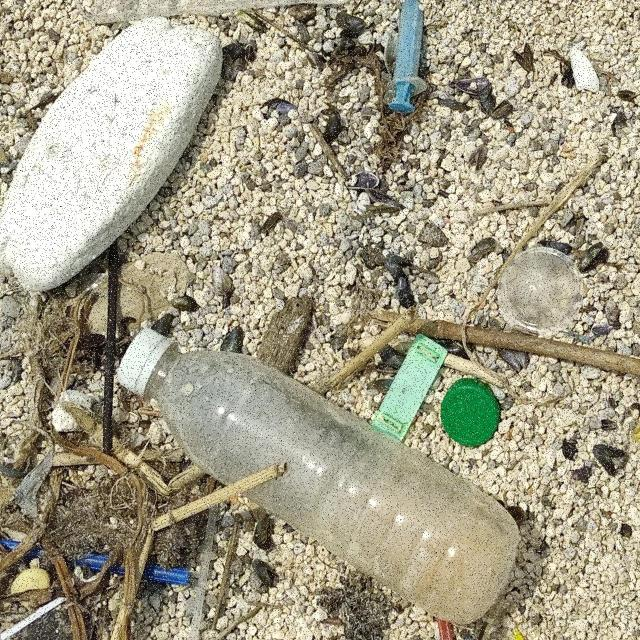plastic_waste: (119, 329, 522, 629), (441, 381, 499, 450)
styrofoam_waste: (1, 17, 224, 295)
